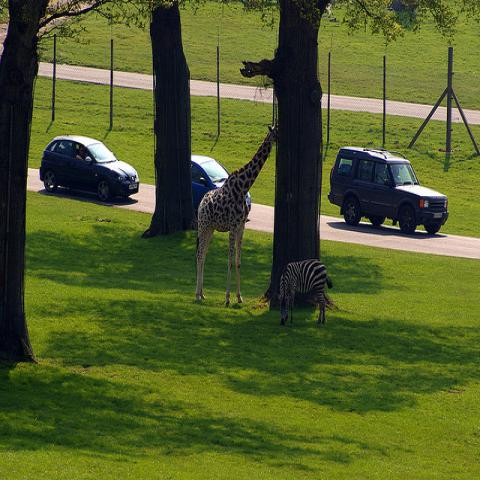car: (325, 146, 447, 237), (40, 136, 141, 202), (191, 156, 251, 220)
truck: (328, 148, 449, 236)
